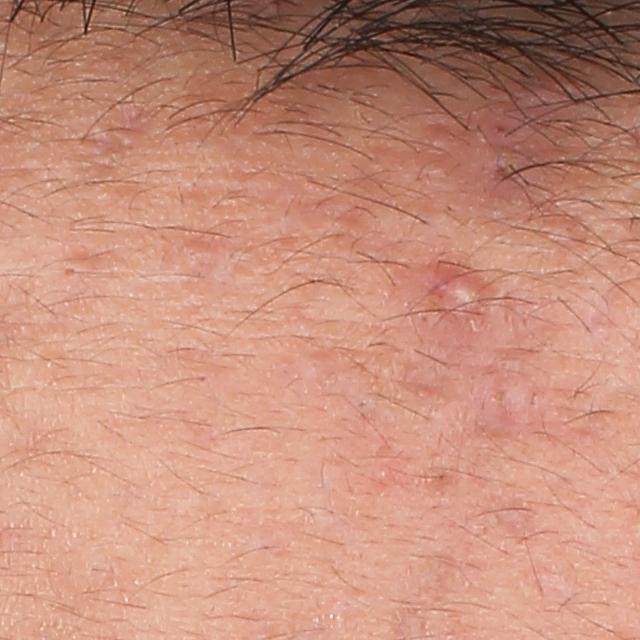comedo: (373, 466, 394, 488), (61, 261, 81, 280)
pustule: (443, 270, 505, 323)
